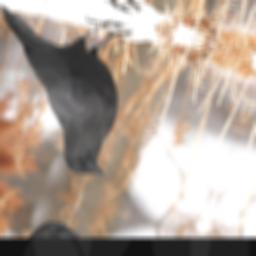Crow: (0, 0, 161, 185)
